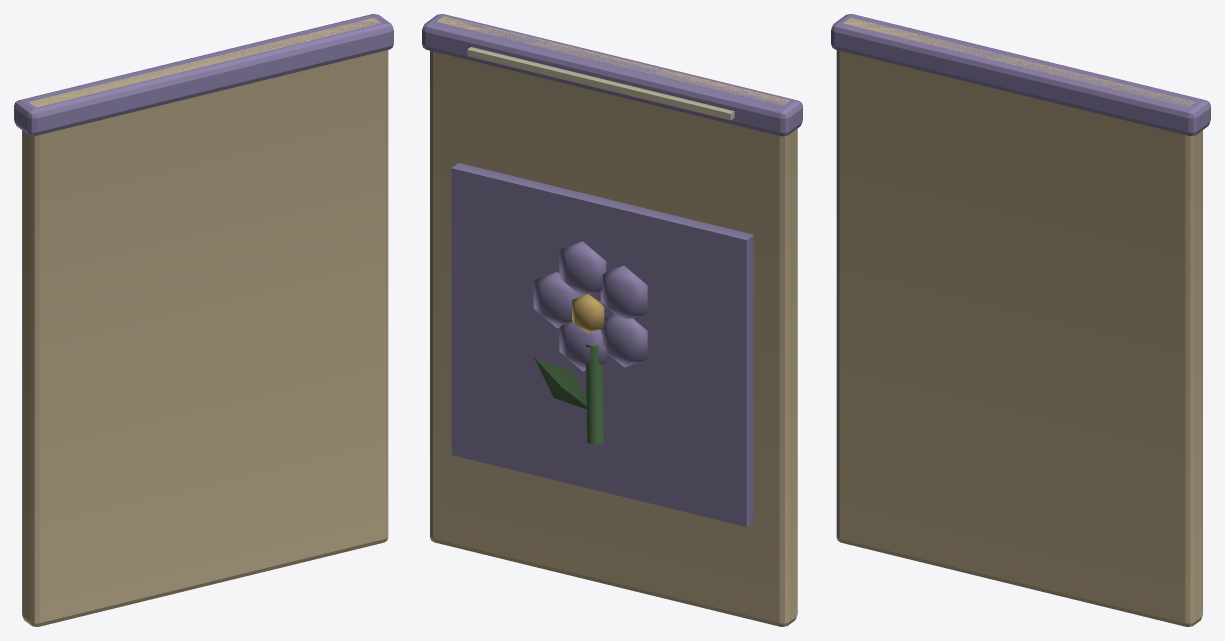
The model's file is seed_flower_purple.glb.
3 renders of one model, left to right at view 1: azimuth 30°, elevation 25°; view 2: azimuth 150°, elevation 25°; view 3: azimuth 330°, elevation 25°, orthographic.
Size of the model in its own units: 0.174 by 0.236 by 0.0318.
